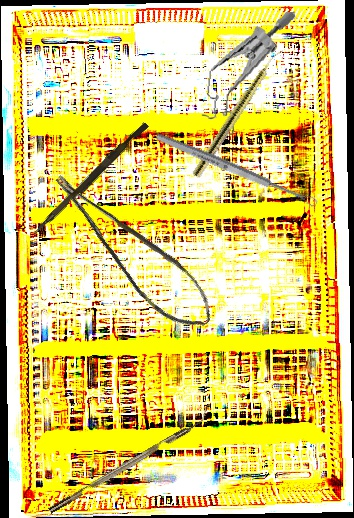Chopper: (43, 407, 214, 514)
Handpiece: (191, 44, 285, 180)
Micro Scissor: (49, 149, 223, 346)
Pusher: (32, 119, 149, 240)
Speculum: (197, 1, 298, 147)
Surgical Spoon: (154, 130, 319, 210)
